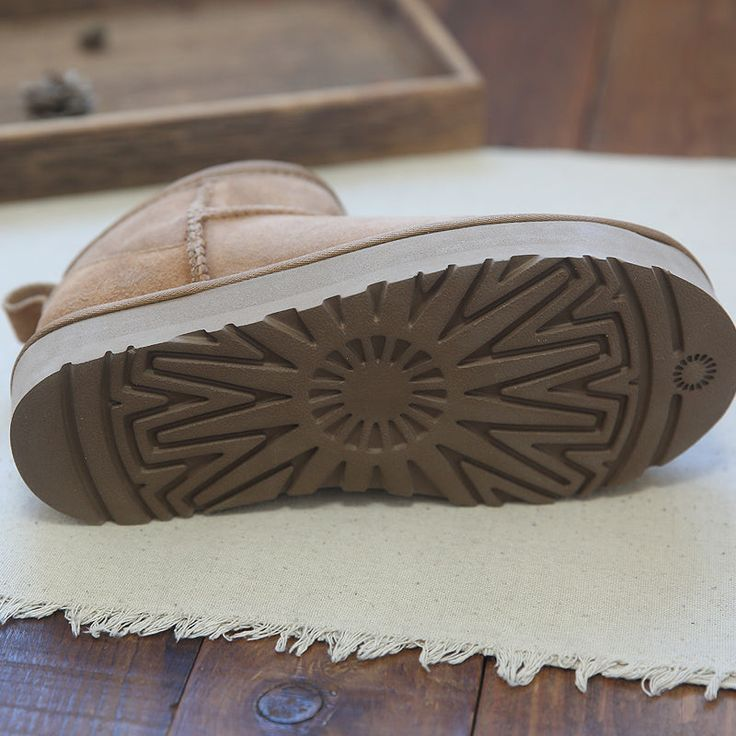gamuza: (5, 160, 476, 341)
